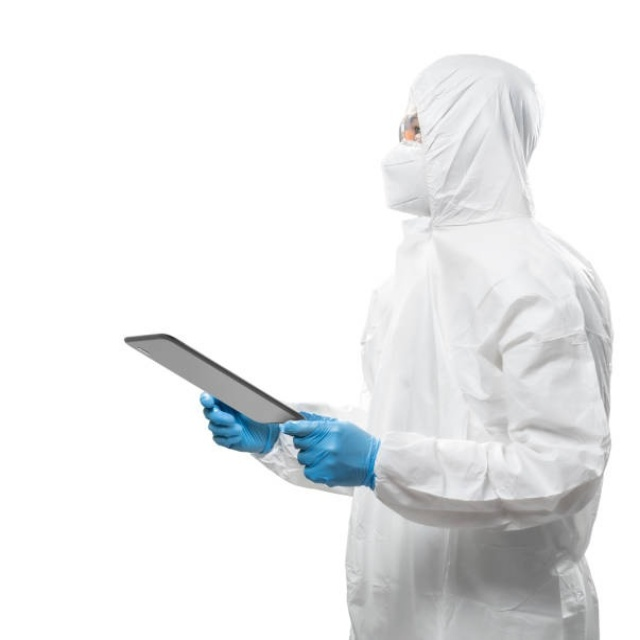Gafas: (399, 113, 421, 144)
Guantes: (281, 412, 380, 490), (203, 393, 281, 456)
Mascara: (381, 142, 432, 216)
